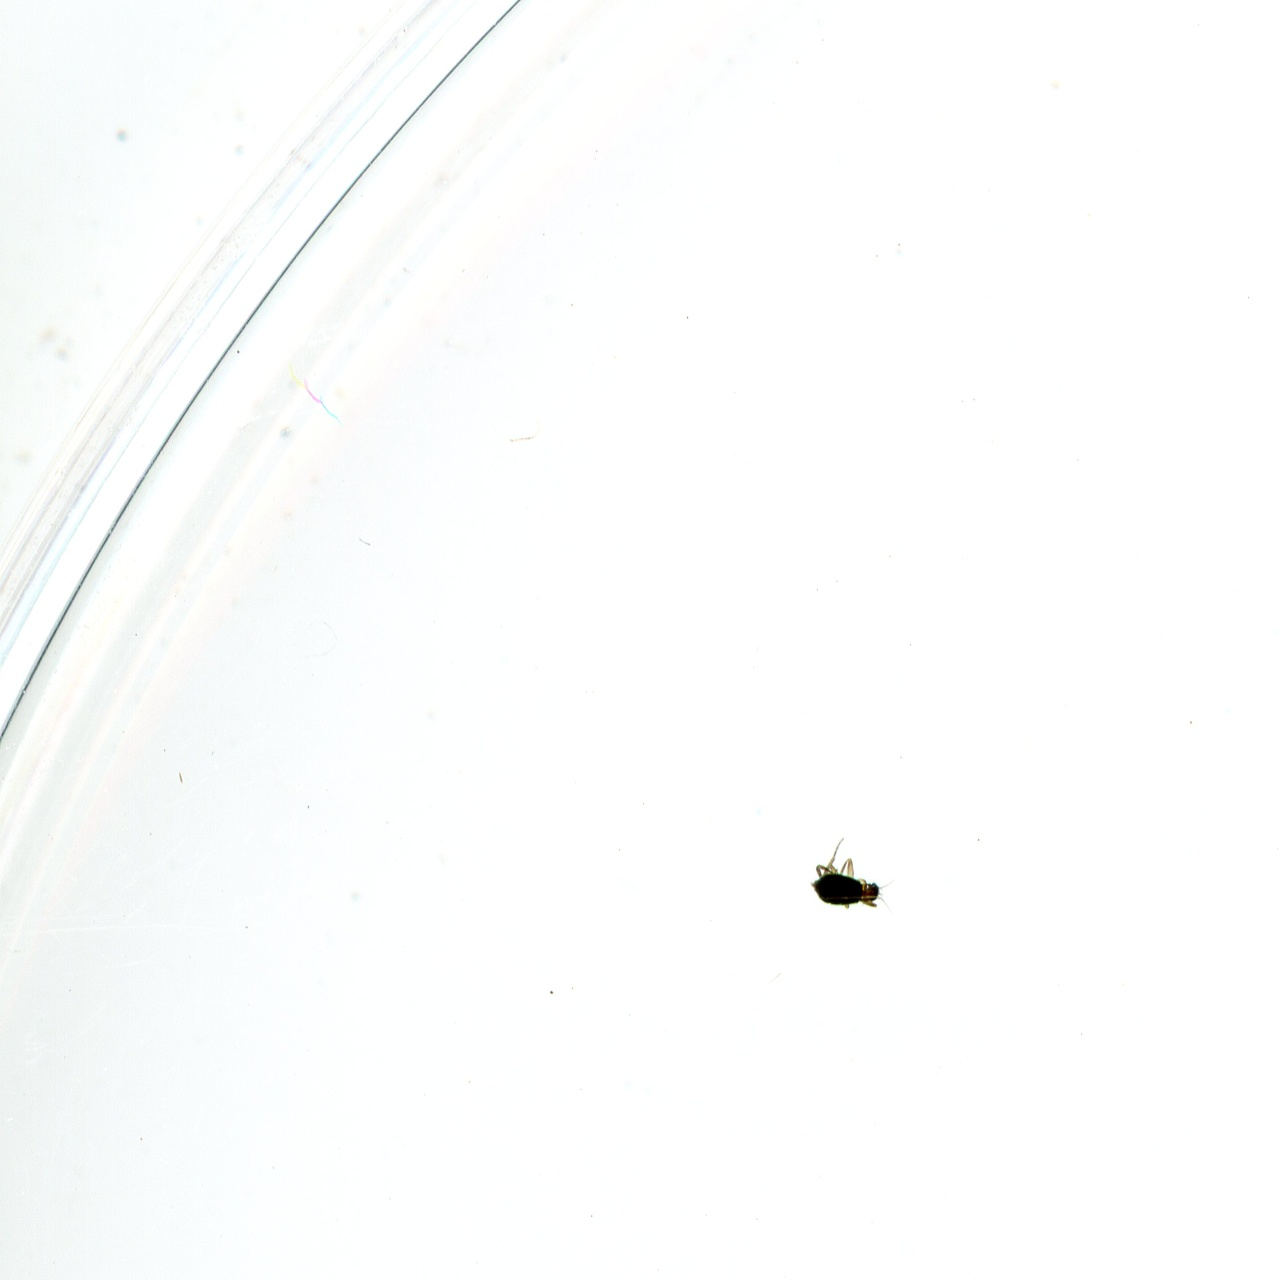arthropod: (798, 832, 910, 928)
